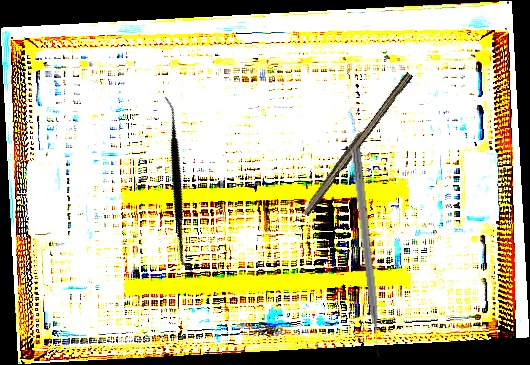Pusher: (349, 147, 383, 359)
Scalpel Handle: (299, 68, 414, 219)
Spatula Surgical: (96, 95, 261, 274)
